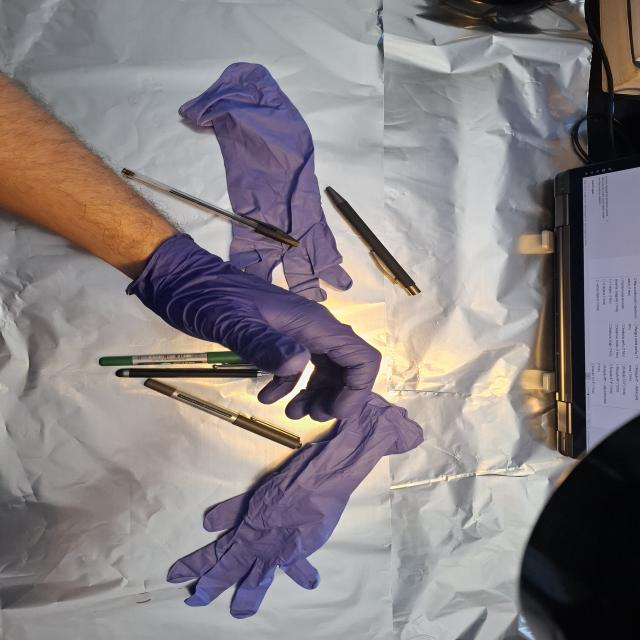glove_on: (127, 233, 385, 424)
